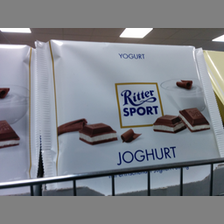chocolate: (34, 40, 224, 194)
